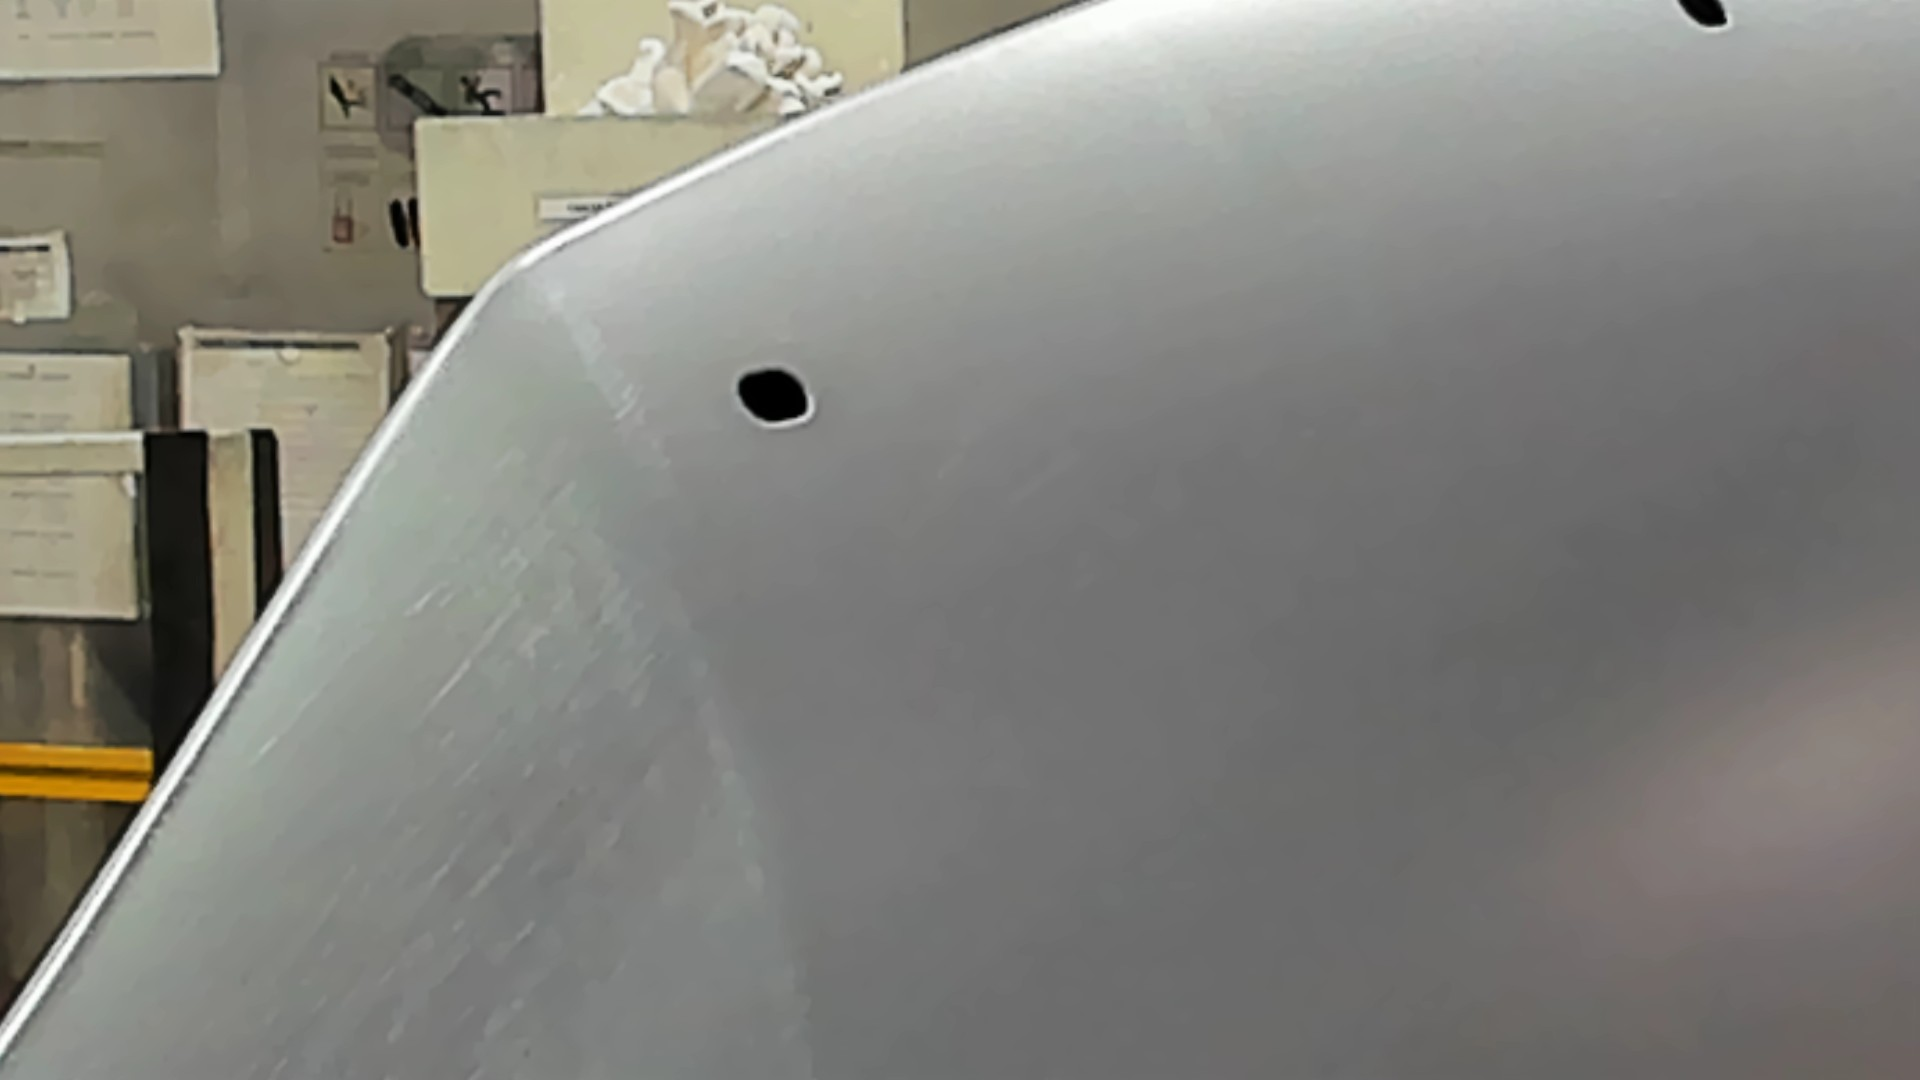amorfo: (727, 357, 820, 438), (1673, 1, 1743, 38)
capo: (957, 79, 1920, 1080)
